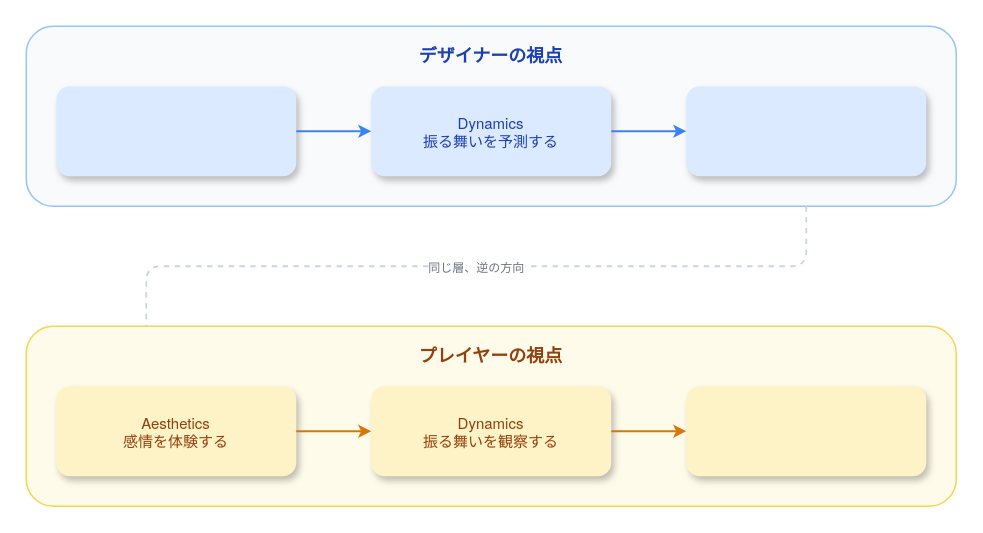
Some shapes in this 983 by 533 pixel diagram are drawn without their labels. The centre of each missing label's shape, as x and y in pixels:
Aesthetics 感情を意図する: point (807, 133)
Mechanics ルールを発見する: point (807, 433)
Mechanics ルールを設計する: point (177, 133)
